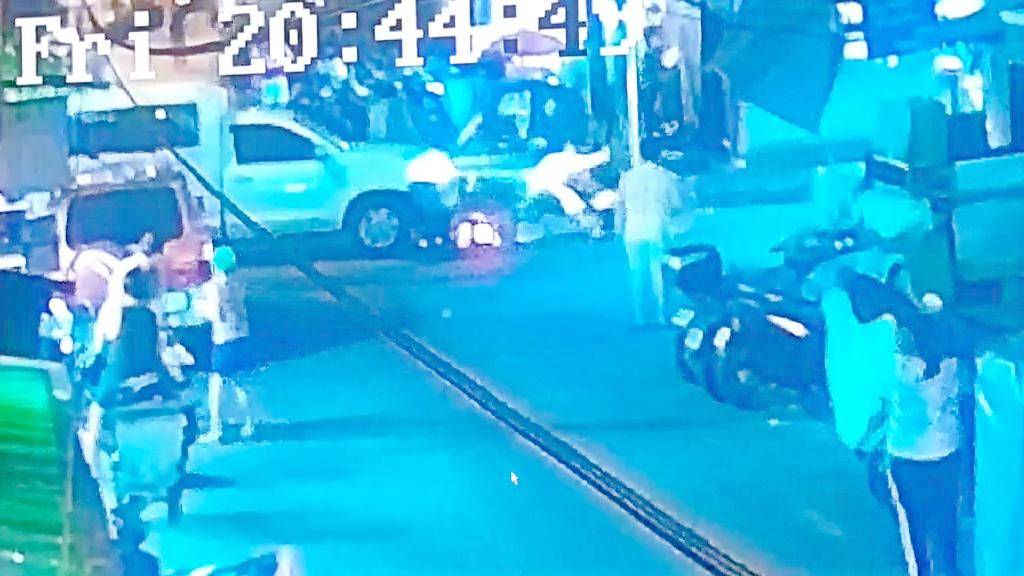Car: (49, 65, 464, 256), (41, 160, 246, 355)
Major Accident: (45, 50, 620, 270)
Motor: (668, 228, 858, 421), (420, 109, 630, 241)
